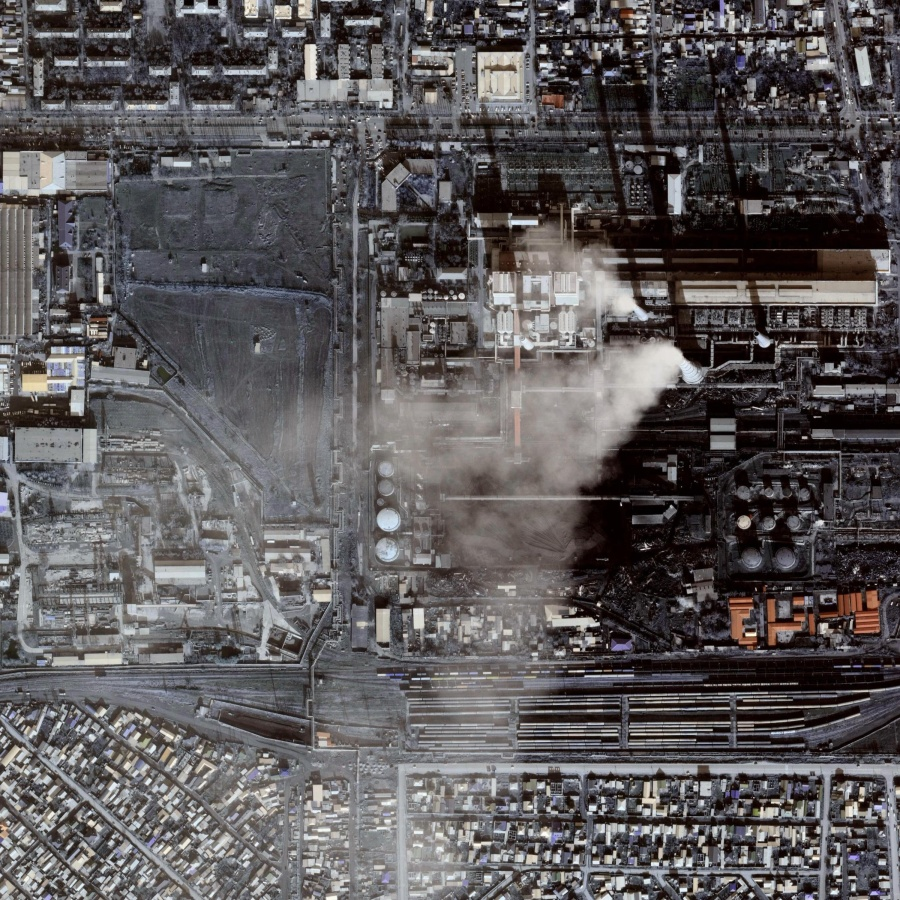PowerPlant: (380, 270, 884, 584)
